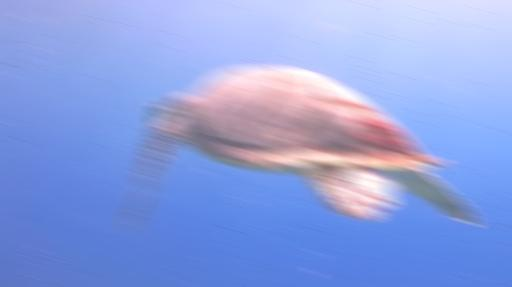Fish: (123, 66, 474, 229)
